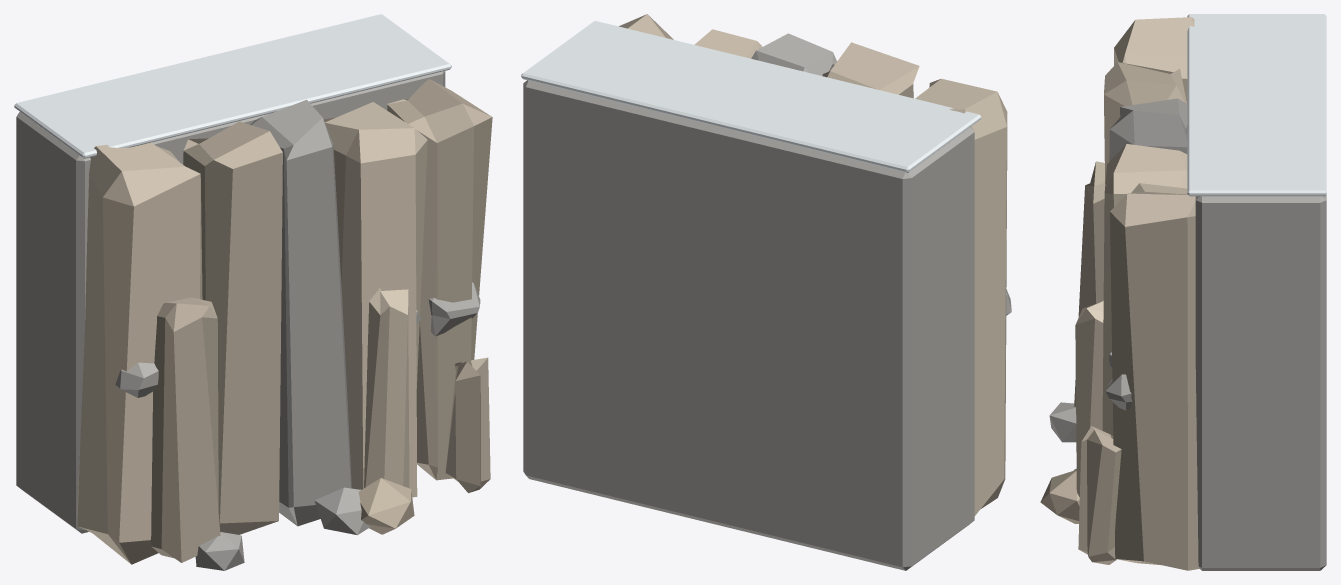
The model's file is cliff_straight_2m.glb.
The picture shows the model from 3 angles, left to right: view 1: azimuth 30°, elevation 25°; view 2: azimuth 150°, elevation 25°; view 3: azimuth 270°, elevation 25°; orthographic projection. The views are drawn at different scales.
Visible parts, largest first — view 1: cliff_straight_2m; view 2: cliff_straight_2m; view 3: cliff_straight_2m.
Part boxes in pixels (left/top/right/bottom): cliff_straight_2m: left=14, top=14, right=492, bottom=570; cliff_straight_2m: left=521, top=14, right=1011, bottom=570; cliff_straight_2m: left=1040, top=14, right=1326, bottom=570.
Bounding box in the file's own units: 2.06 × 2.1 × 1.36.
